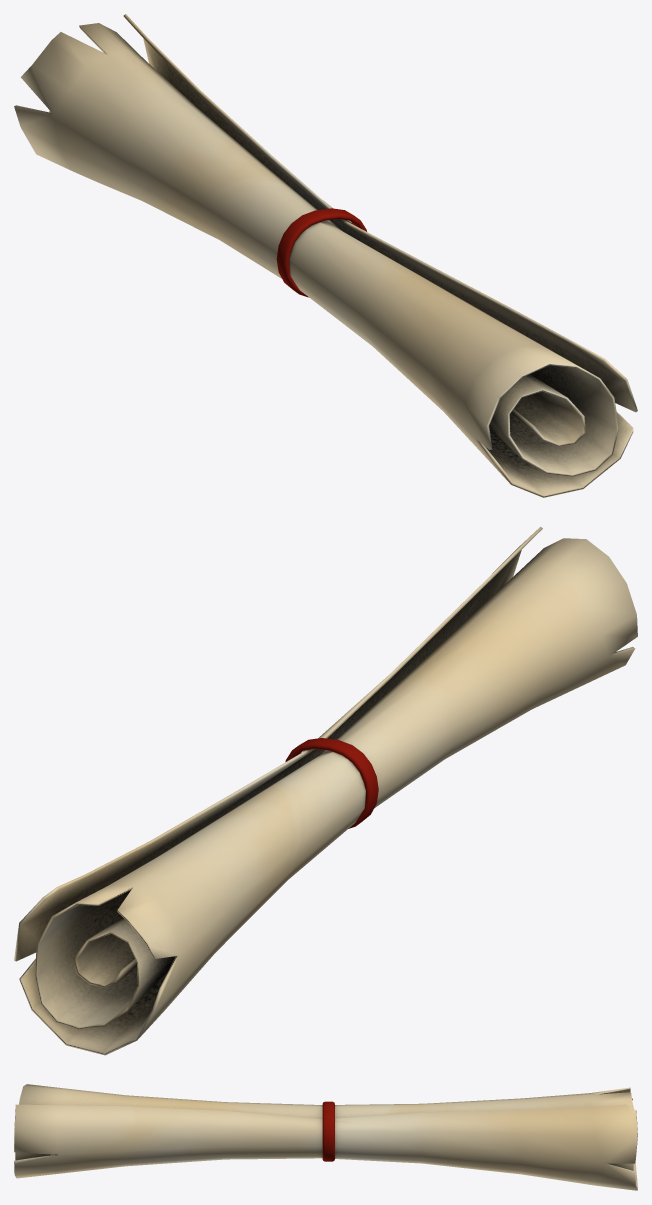
The model's file is scroll.glb.
The picture shows the model from 3 angles, top to bottom: view 1: azimuth 30°, elevation 25°; view 2: azimuth 150°, elevation 25°; view 3: azimuth 270°, elevation 25°; orthographic projection. The views are drawn at different scales.
Visible parts, largest first — view 1: Object_3, Object_2; view 2: Object_3, Object_2; view 3: Object_3, Object_2.
Part boxes in pixels (bbox=[...]): Object_3: bbox=[14, 14, 637, 497]; Object_2: bbox=[276, 208, 366, 297]; Object_3: bbox=[14, 526, 637, 1055]; Object_2: bbox=[285, 738, 378, 828]; Object_3: bbox=[14, 1084, 637, 1190]; Object_2: bbox=[322, 1101, 334, 1161].
Size of the model in its own units: 0.1323 by 0.1321 by 0.7732.
2 materials, 2 textured.
